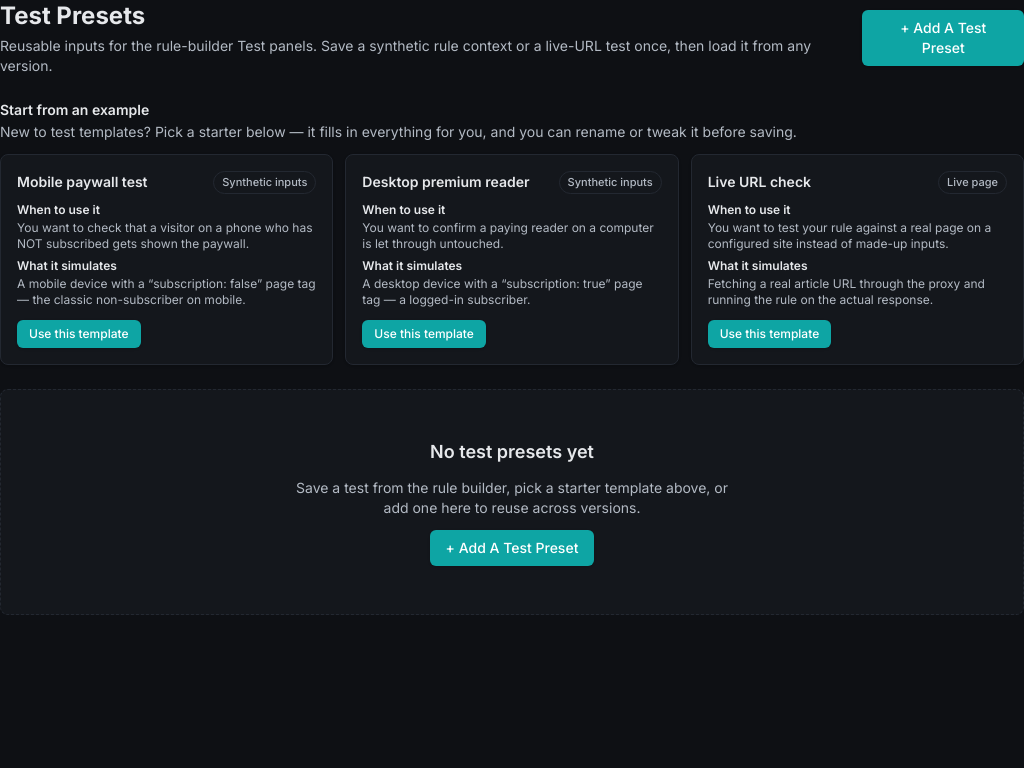
Test case: TestPresetsListClient › opens a pre-filled create modal when a starter template is used
The image size is (1024, 768).
Expected: the heading "No test presets yet" is shown, [430,438,594,466]
Click the button "Use this template" below "Mobile paywall test" at (79, 334), box [17,320,140,348]
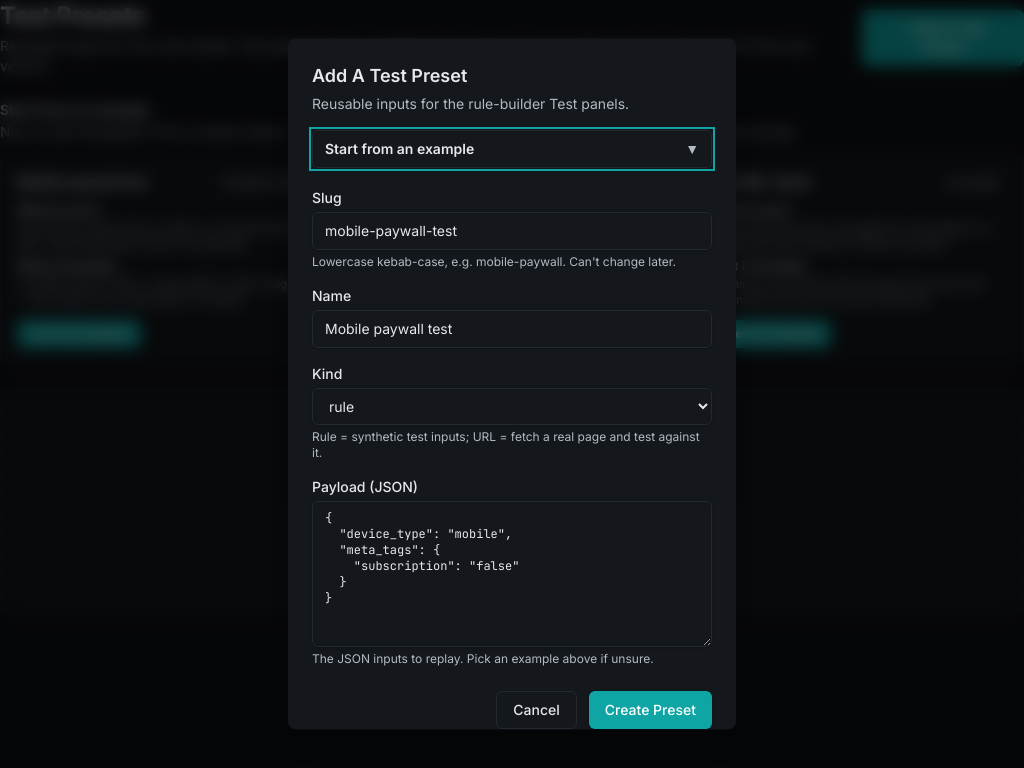
Expected: the field labelled "Slug" holds "mobile-paywall-test", [312,212,712,250]
Expected: the field labelled "Name" holds "Mobile paywall test", [312,310,712,348]
